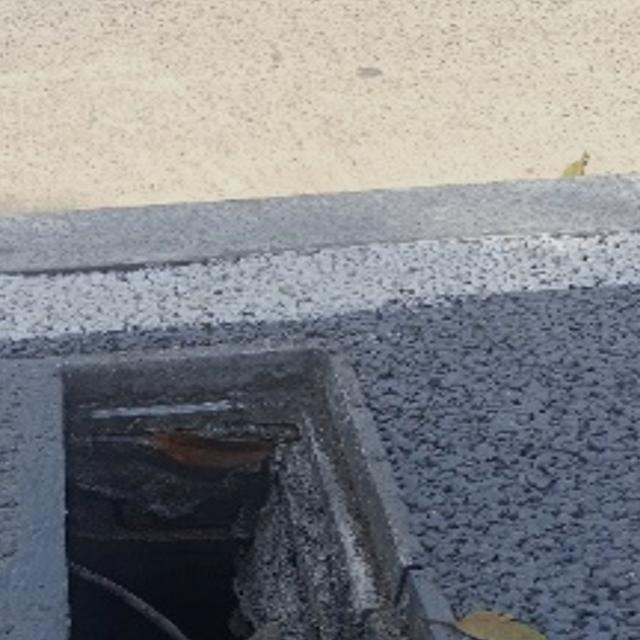uncovered: (0, 335, 578, 640)
